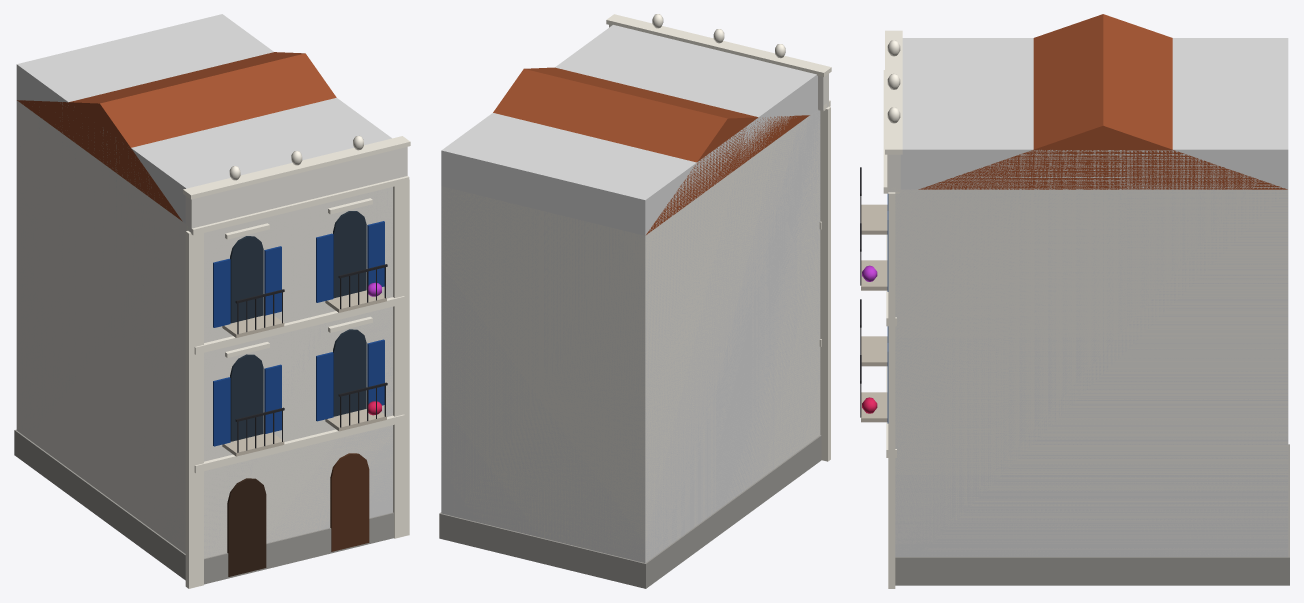
File: sobrado_4.glb
3 renders of one model, left to right at view 1: azimuth 30°, elevation 25°; view 2: azimuth 150°, elevation 25°; view 3: azimuth 270°, elevation 25°, orthographic. The views are drawn at different scales.
Visible parts, largest first — view 1: sobrado_4_Malla, COL_0; view 2: sobrado_4_Malla, COL_0; view 3: sobrado_4_Malla, COL_0.
Part boxes in pixels (<box>): sobrado_4_Malla: <box>14,52,410,588</box>; COL_0: <box>16,14,392,556</box>; sobrado_4_Malla: <box>439,14,831,588</box>; COL_0: <box>441,25,820,562</box>; sobrado_4_Malla: <box>860,14,1289,588</box>; COL_0: <box>895,38,1288,556</box>.
Bounding box in the file's own units: 6.44 × 11.5 × 9.76.
